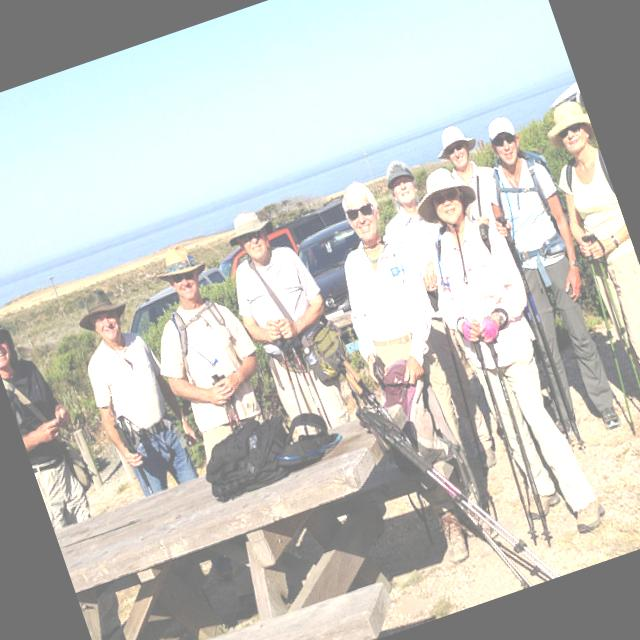Vehicle: (117, 262, 236, 332), (292, 218, 378, 314), (542, 75, 586, 122), (213, 245, 250, 279)
